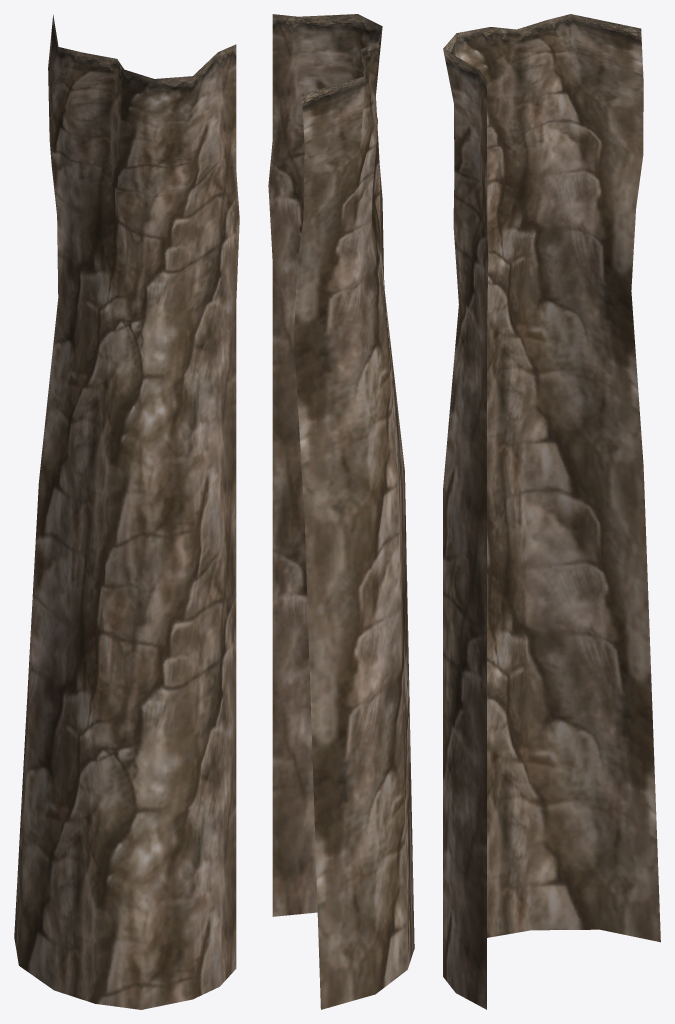
The model's file is OVERHILL_A_01_OBJECT30.fbx.
3 renders of one model, left to right at view 1: azimuth 30°, elevation 25°; view 2: azimuth 150°, elevation 25°; view 3: azimuth 270°, elevation 25°, orthographic. The views are drawn at different scales.
Parts seen in each view (by area): view 1: OVERHILL_A_01_OBJECT30; view 2: OVERHILL_A_01_OBJECT30; view 3: OVERHILL_A_01_OBJECT30.
Boxes of the visible parts, bbox=[...] form: OVERHILL_A_01_OBJECT30: bbox=[14, 15, 239, 1009]; OVERHILL_A_01_OBJECT30: bbox=[268, 14, 414, 1009]; OVERHILL_A_01_OBJECT30: bbox=[443, 14, 660, 1009].
Size of the model in its own units: 32718 by 174896 by 37160.
2 materials, 2 textured.
